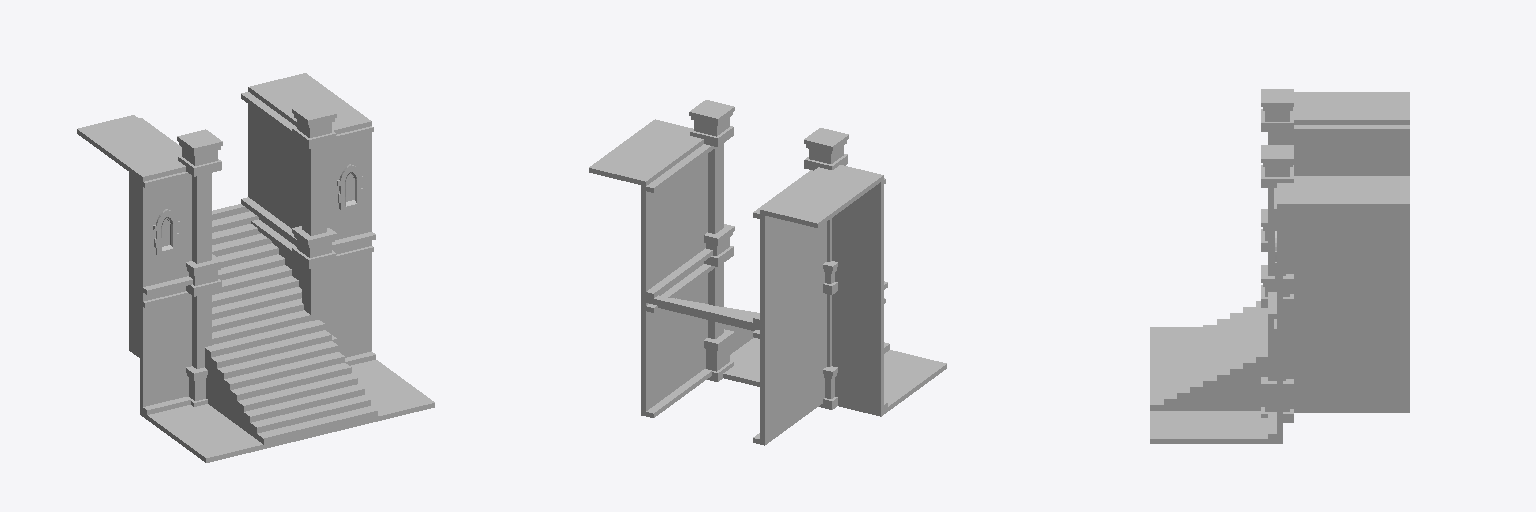
Rendered from Stair1.obj.
The picture shows the model from 3 angles: view 1: azimuth 30°, elevation 25°; view 2: azimuth 150°, elevation 25°; view 3: azimuth 270°, elevation 25°; orthographic projection.
Visible parts, largest first — view 1: object_65, object_69, object_75, object_73, object_76, object_72, object_74, object_71, object_60, object_70, object_42, object_16 (+26 smaller); view 2: object_70, object_69, object_75, object_73, object_72, object_71, object_65, object_60, object_1, object_49, object_59, object_58 (+5 smaller); view 3: object_69, object_70, object_65, object_71, object_72, object_67, object_40, object_16, object_20, object_60, object_13, object_14 (+10 smaller).
Part boxes in pixels (x1,y1,x2,y2): object_65: (140, 360, 434, 462); object_69: (248, 86, 301, 288); object_75: (140, 287, 191, 411); object_73: (140, 167, 191, 296); object_76: (327, 241, 371, 357); object_72: (77, 116, 185, 181); object_74: (327, 121, 371, 249); object_71: (249, 73, 371, 134); object_60: (302, 145, 326, 235); object_70: (129, 115, 181, 357); object_42: (192, 173, 211, 263); object_16: (230, 363, 351, 400); object_70: (760, 167, 826, 445); object_69: (641, 138, 707, 415); object_75: (832, 287, 883, 416); object_73: (832, 165, 883, 296); object_72: (760, 165, 883, 227); object_71: (589, 119, 703, 184); object_65: (723, 338, 946, 416); object_60: (708, 143, 723, 233); object_1: (646, 296, 759, 329); object_49: (708, 263, 723, 338); object_59: (646, 248, 712, 298); object_58: (646, 144, 714, 192); object_69: (1286, 176, 1409, 412); object_70: (1286, 120, 1409, 175); object_65: (1150, 327, 1282, 443); object_71: (1277, 178, 1409, 208); object_72: (1293, 92, 1409, 121); object_67: (1152, 363, 1267, 410); object_40: (1286, 125, 1409, 133); object_16: (1203, 325, 1216, 386); object_20: (1150, 349, 1163, 410); object_60: (1268, 188, 1285, 275); object_13: (1243, 307, 1255, 368); object_14: (1230, 313, 1242, 374).
Size of the model in its own units: 20 by 22.01 by 19.6.